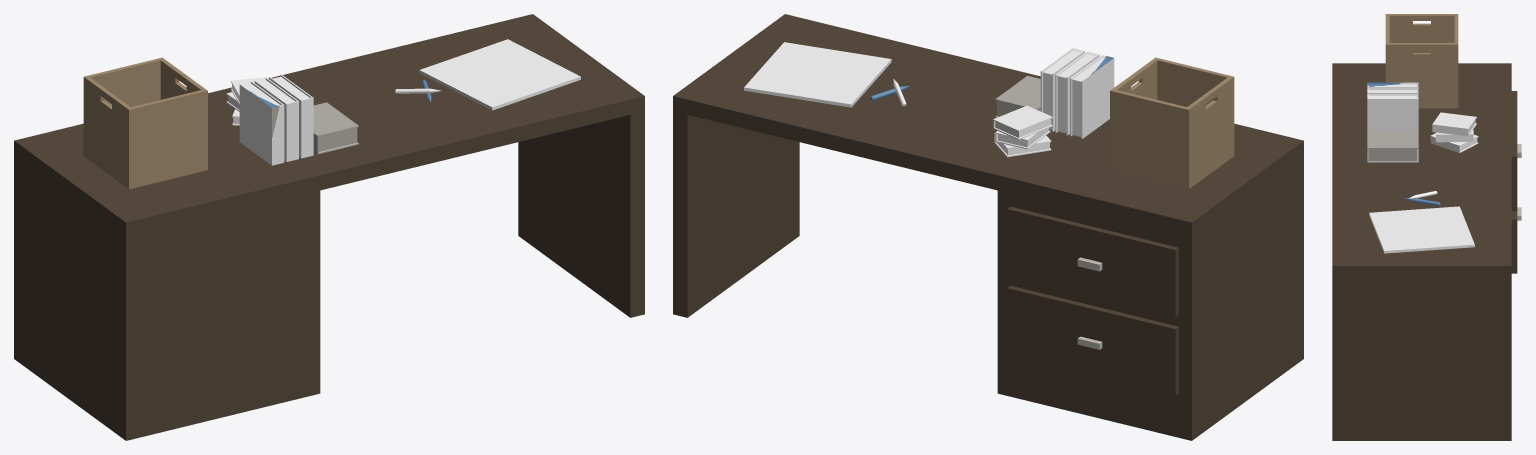
The model's file is Desk 2.fbx.
The picture shows the model from 3 angles, left to right: view 1: azimuth 30°, elevation 25°; view 2: azimuth 150°, elevation 25°; view 3: azimuth 270°, elevation 25°; orthographic projection. The views are drawn at different scales.
Parts seen in each view (by area): view 1: Box.001, Box.012, Box.002, Box.011, Box.005, Box.010, Box.009; view 2: Box.001, Box.012, Box.002, Box.011, Box.010, Box.006, Box.009, Box.005; view 3: Box.001, Box.012, Box.002, Box.009, Box.005, Box.006, Box.007, Box.011, Box.008, Box.010.
Boxes of the visible parts, <box> form: Box.001: <box>14,14,644,440</box>; Box.012: <box>83,57,207,189</box>; Box.002: <box>419,39,580,110</box>; Box.011: <box>239,81,284,165</box>; Box.005: <box>313,102,358,154</box>; Box.010: <box>254,78,298,161</box>; Box.009: <box>269,74,313,158</box>; Box.001: <box>673,14,1303,440</box>; Box.012: <box>1110,57,1234,189</box>; Box.002: <box>744,42,891,107</box>; Box.011: <box>1070,55,1114,138</box>; Box.010: <box>1055,51,1099,135</box>; Box.006: <box>993,105,1052,139</box>; Box.009: <box>1040,47,1084,131</box>; Box.005: <box>995,76,1040,117</box>; Box.001: <box>1332,63,1521,440</box>; Box.012: <box>1385,14,1458,108</box>; Box.002: <box>1369,206,1474,253</box>; Box.009: <box>1367,94,1418,131</box>; Box.005: <box>1367,131,1418,162</box>; Box.006: <box>1432,112,1476,136</box>; Box.007: <box>1430,133,1478,153</box>; Box.011: <box>1367,82,1418,88</box>; Box.008: <box>1435,130,1473,142</box>; Box.010: <box>1367,88,1418,93</box>.
Bounding box in the file's own units: 1069 × 586 × 422.
